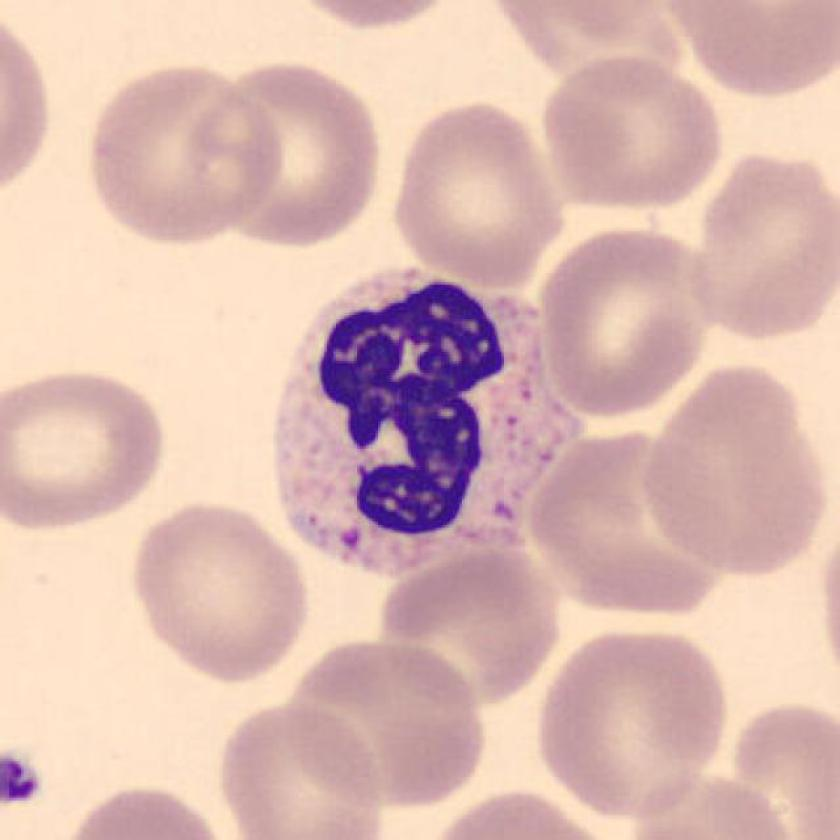neutrophil: (276, 267, 583, 580)
